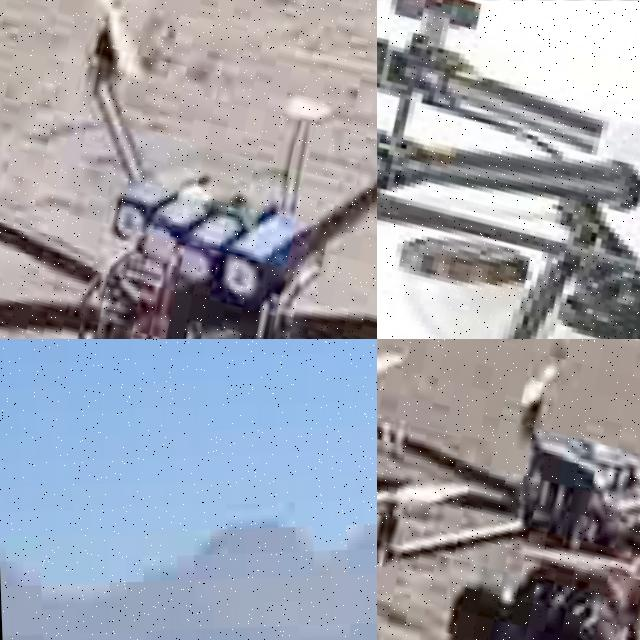drone: (0, 0, 377, 339), (377, 0, 640, 339), (377, 339, 640, 640)
